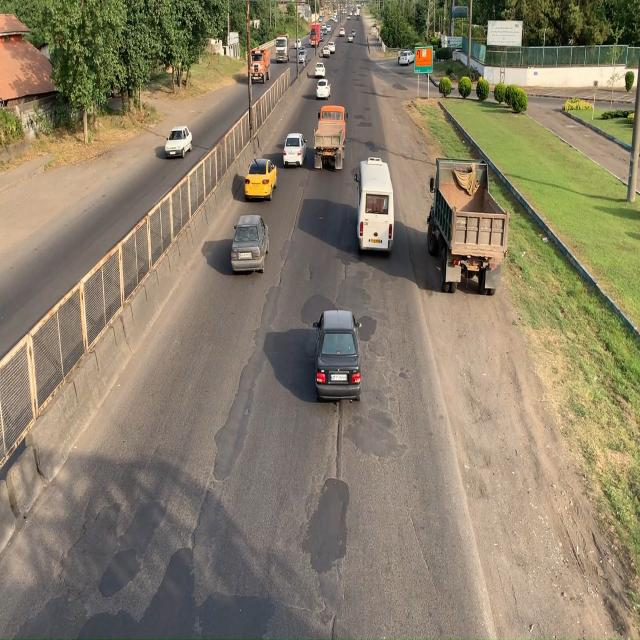Bus: (356, 155, 400, 256)
Truck: (425, 160, 510, 303), (314, 106, 347, 171)
cars: (311, 307, 366, 402), (228, 212, 269, 276), (242, 159, 278, 203), (282, 130, 308, 170), (165, 125, 194, 156)
